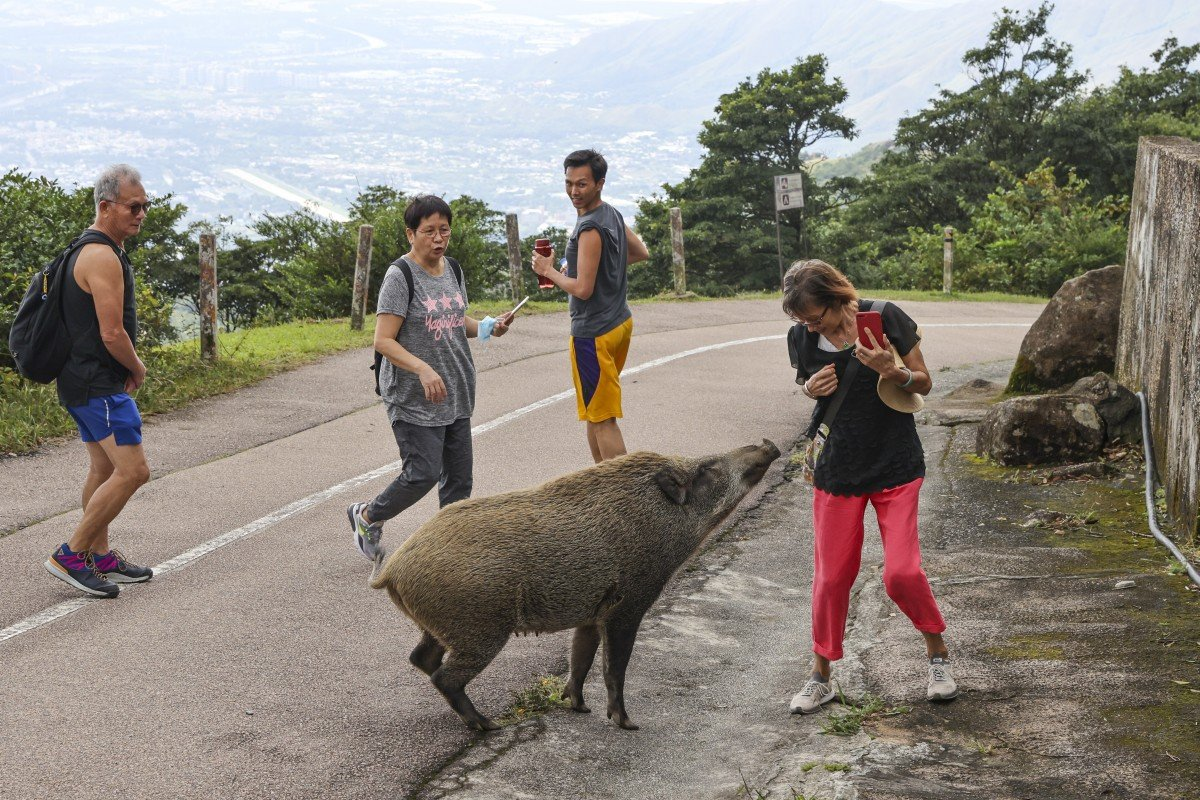boar: (361, 433, 786, 747)
